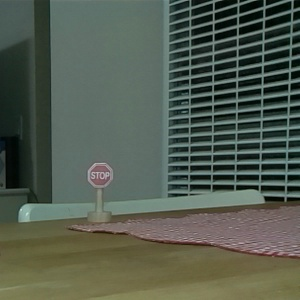stop sign: (86, 161, 113, 224)
